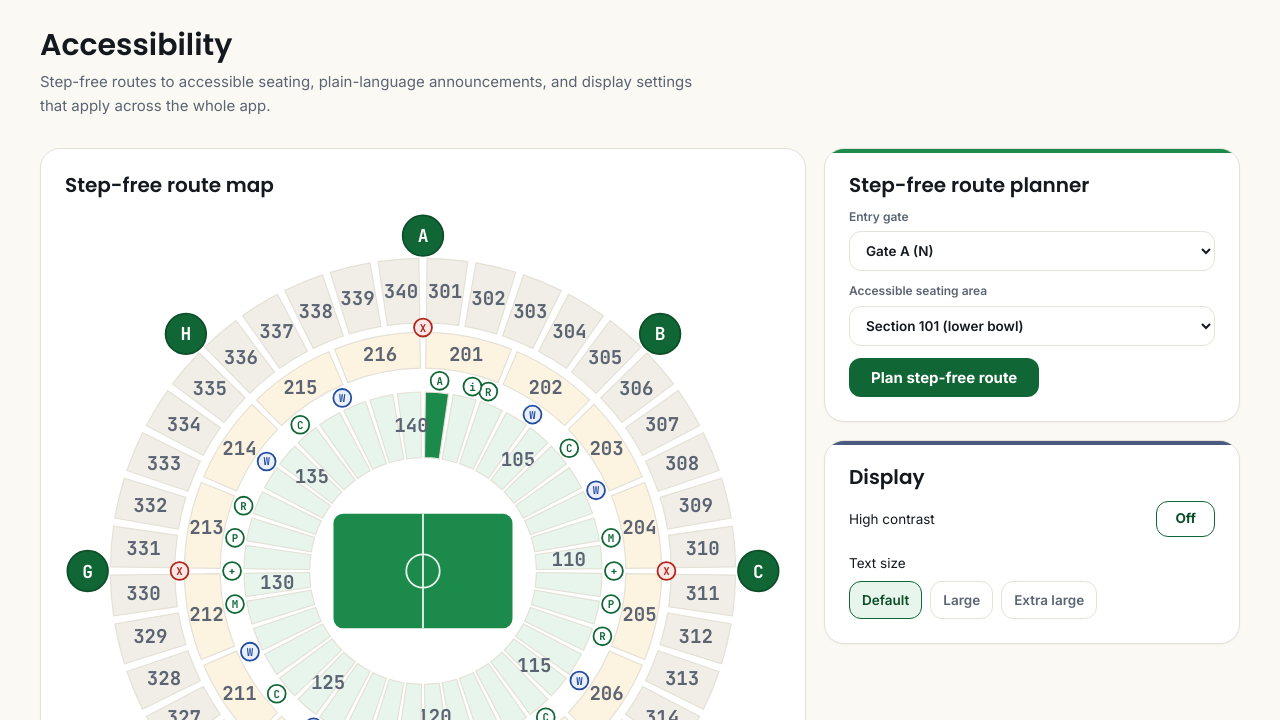
Test case: AccessibilityScreen — step-free route planner › marks mock guidance with the Demo data badge
Select "Gate G (W)" in the dropdown labelled "Entry gate" at (1032, 251), box [849,231,1215,271]
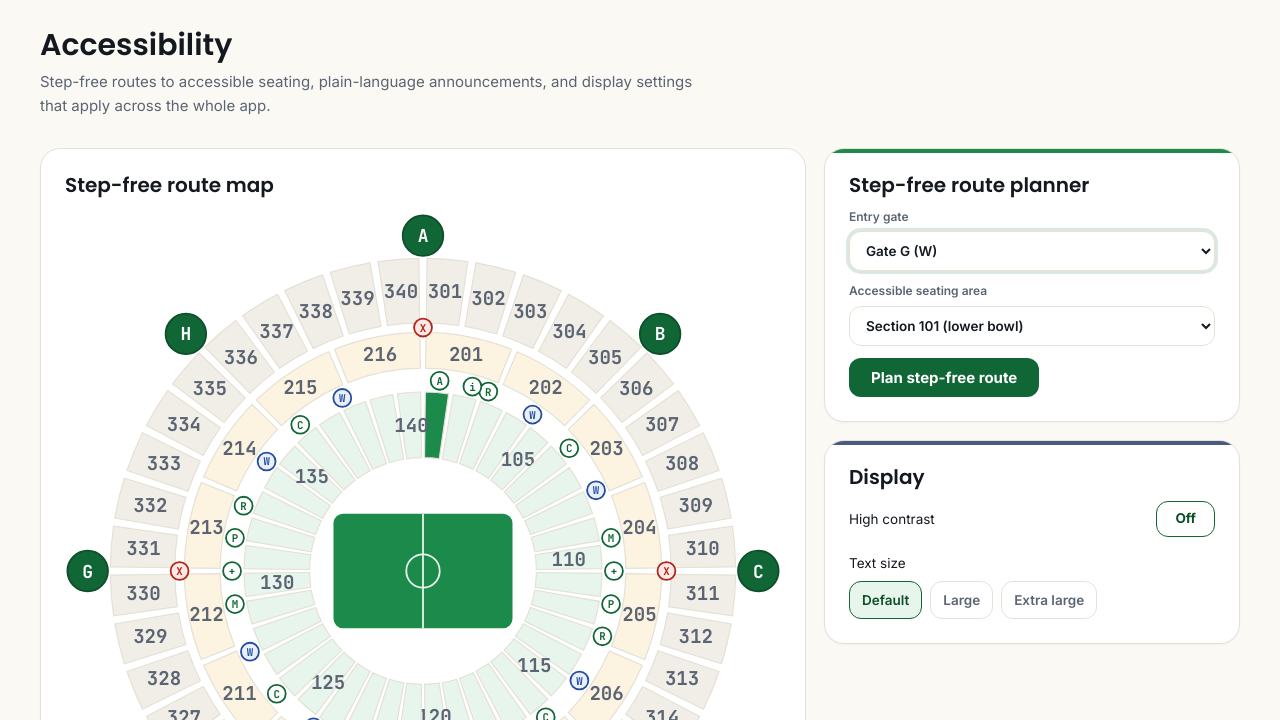
Select "Section 120 (lower bowl)" in the dropdown labelled "Accessible seating area" at (1032, 326), box [849,306,1215,346]
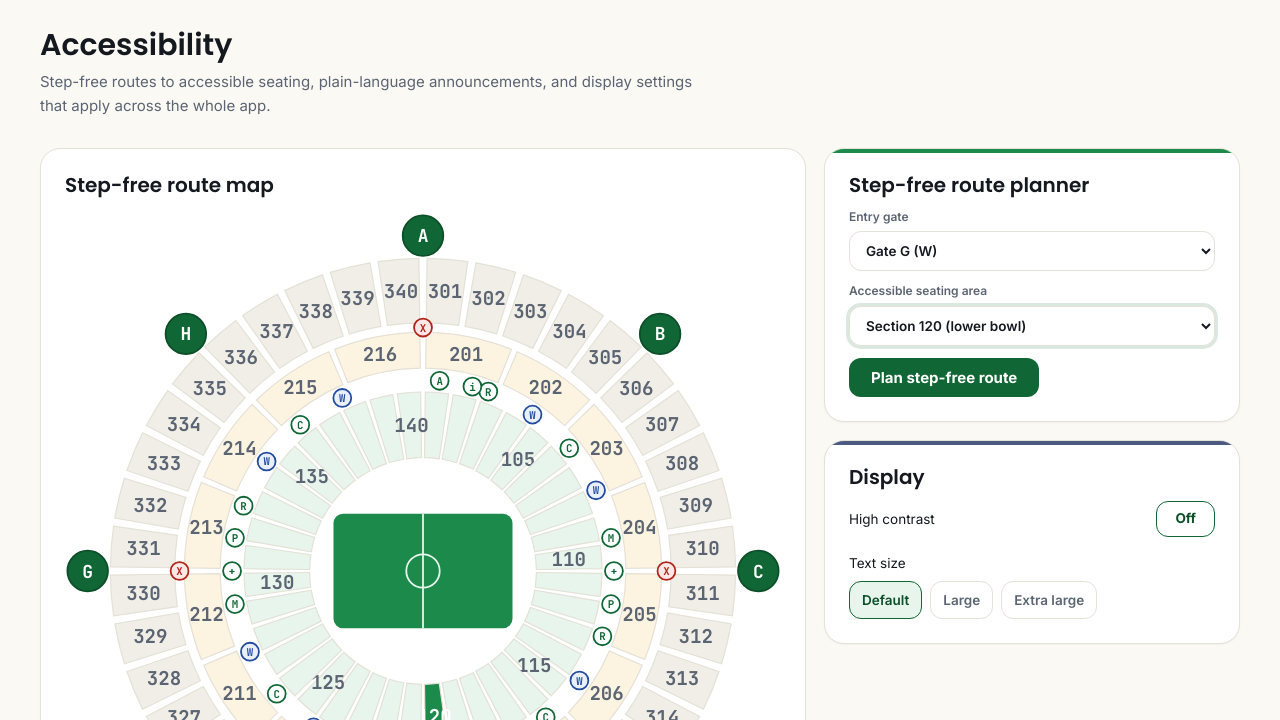
Click the button "Plan step-free route" at (944, 378), box [849,358,1039,397]
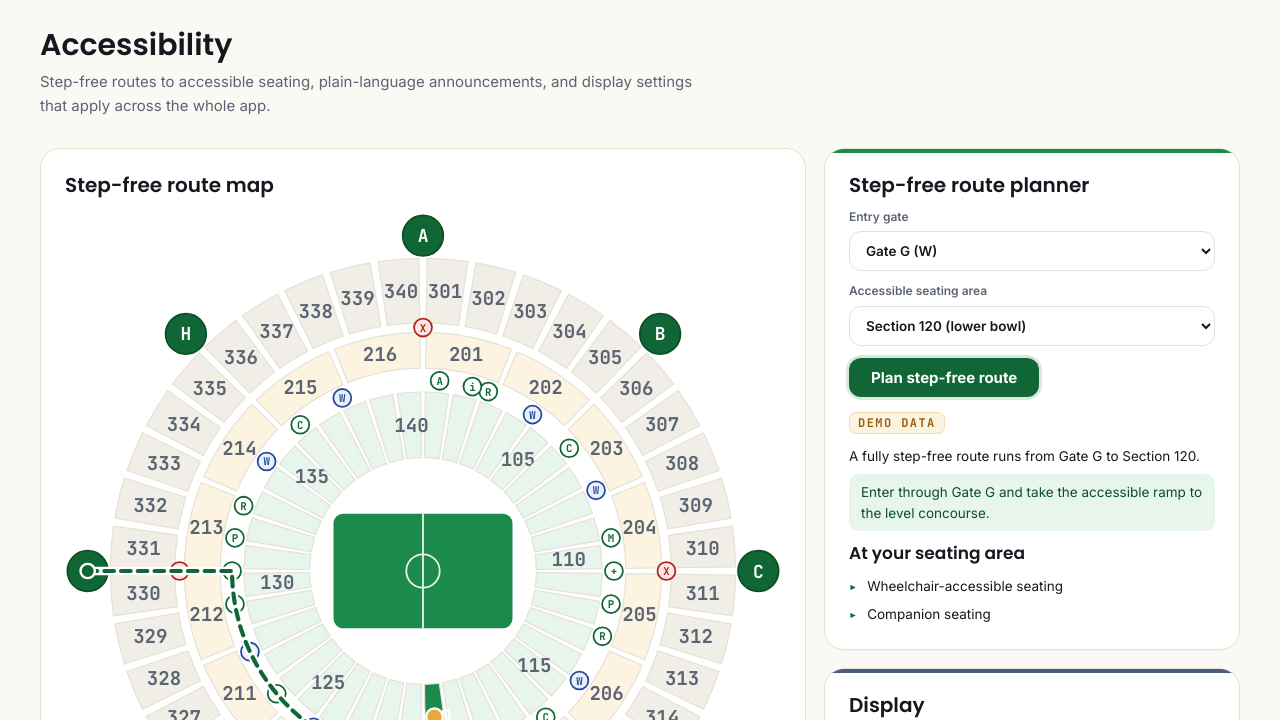
Expected: the text "Demo data" is shown, [849,412,945,434]
